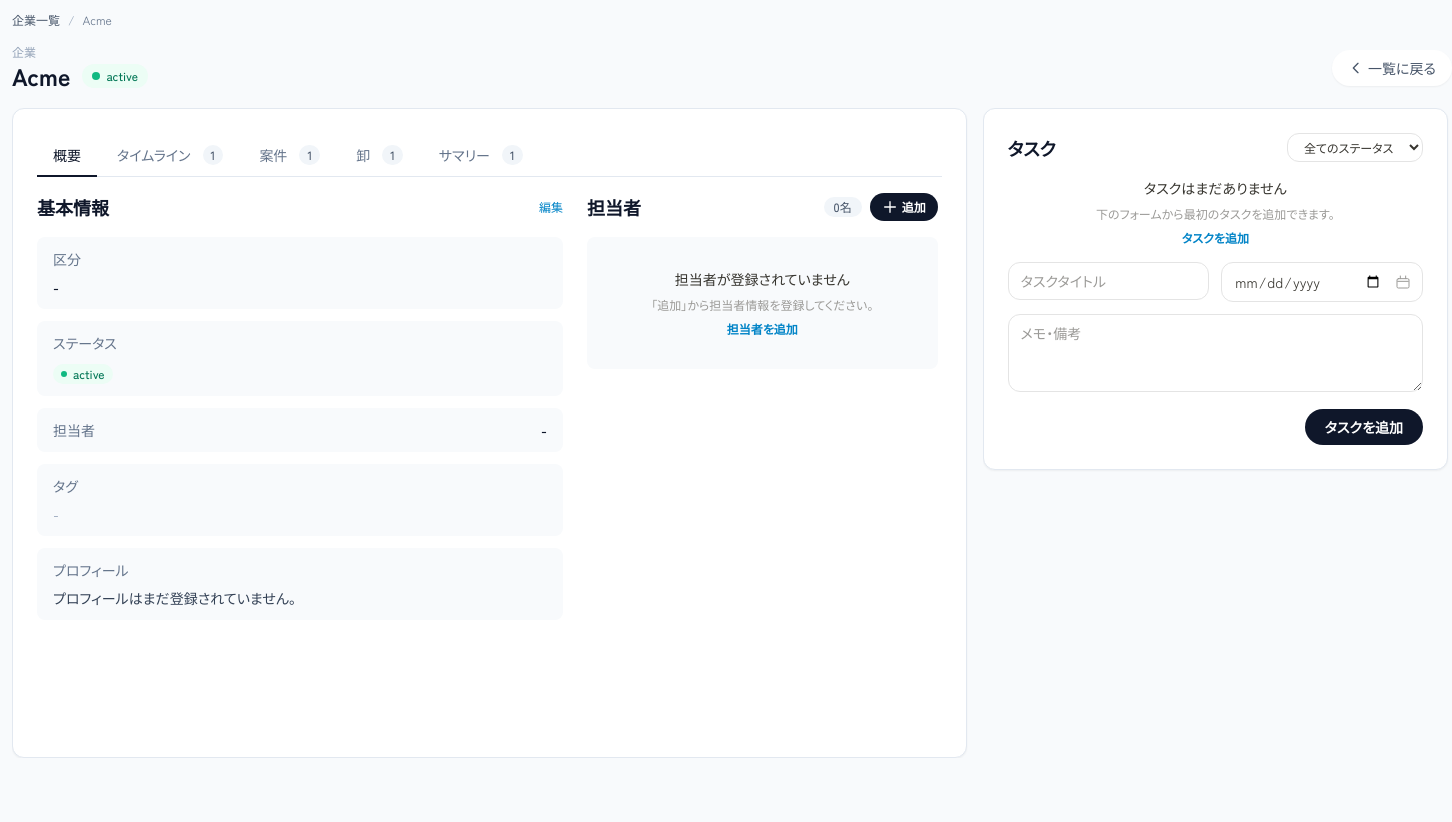
Test: 企業詳細ページ › メッセージのラベル削除が反映される
Click the button "タイムライン 1" at (170, 155), box [101,133,239,177]
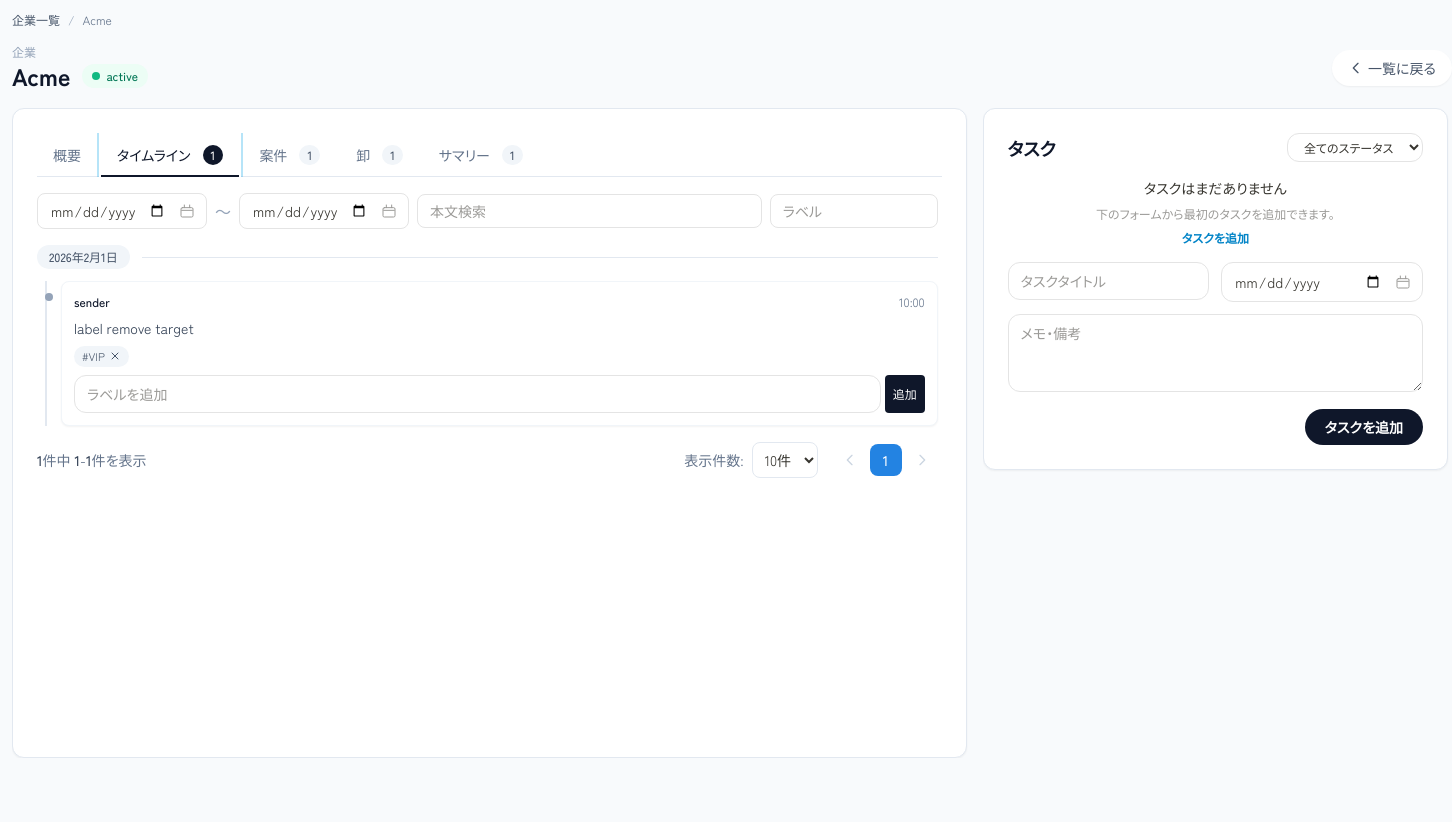
Click the button "#VIP" at (101, 356), box [74,346,129,366]
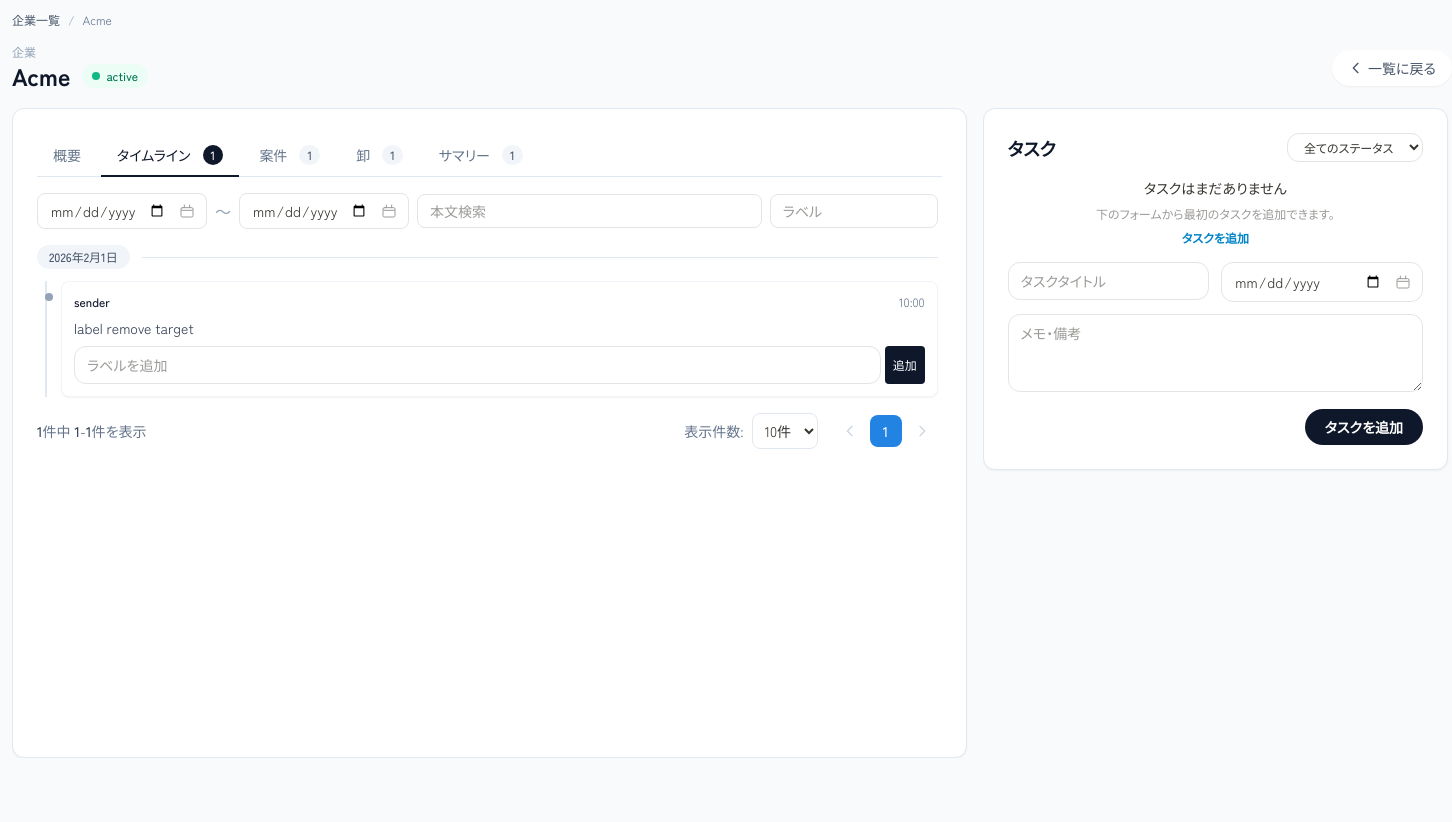
Result: the button "#VIP" is gone
